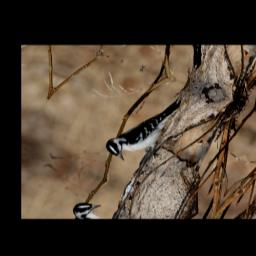Woodpecker: (101, 83, 190, 172)
